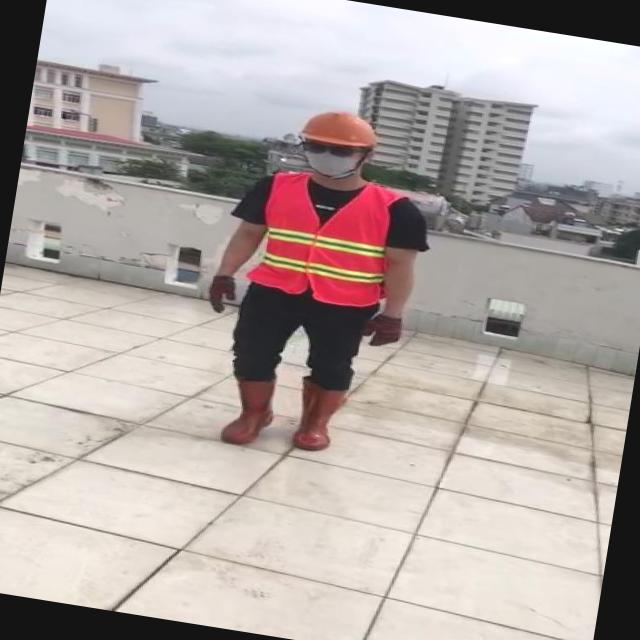boots: (213, 371, 285, 448), (288, 380, 350, 456)
gloves: (354, 294, 421, 378), (206, 263, 247, 320)
helmet: (296, 103, 386, 155)
vest: (250, 167, 402, 308)
